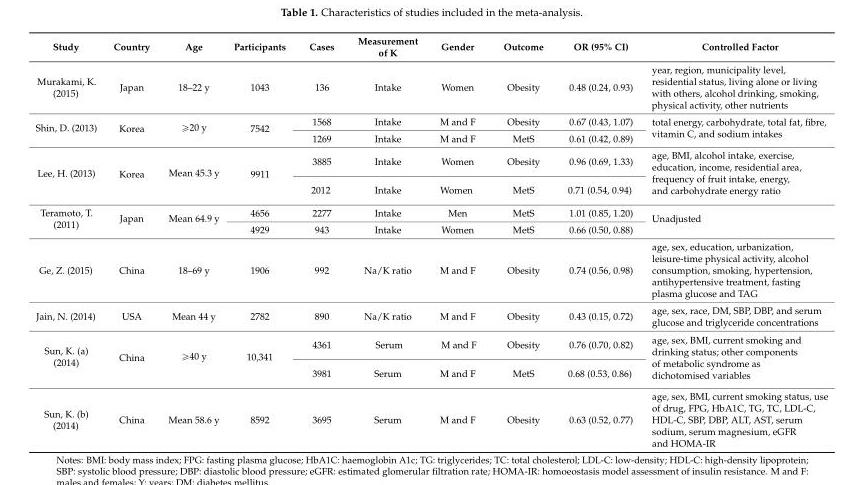table: (34, 34, 827, 448)
table column: (641, 34, 827, 448), (554, 34, 641, 448), (345, 34, 428, 448), (225, 34, 296, 448), (34, 34, 104, 448), (158, 34, 225, 448), (489, 34, 554, 448), (428, 34, 489, 448), (104, 34, 158, 448), (296, 34, 345, 448)
table column header: (34, 34, 827, 60)
table row: (34, 237, 827, 301), (34, 385, 827, 448), (34, 60, 827, 112), (34, 146, 827, 175), (34, 301, 827, 330), (34, 330, 827, 358), (34, 358, 827, 385), (34, 34, 827, 60), (34, 175, 827, 201), (34, 201, 827, 220), (34, 112, 827, 129), (34, 129, 827, 146), (34, 220, 827, 237)
table spanning cell: (641, 146, 827, 201), (641, 330, 827, 385), (641, 201, 827, 237), (641, 112, 827, 146), (225, 146, 296, 201), (225, 330, 296, 385), (34, 146, 104, 201), (34, 330, 104, 385), (158, 146, 225, 201), (158, 330, 225, 385), (104, 146, 158, 201), (104, 330, 158, 385), (34, 201, 104, 237), (225, 112, 296, 146), (158, 201, 225, 237), (34, 112, 104, 146), (158, 112, 225, 146), (104, 201, 158, 237), (104, 112, 158, 146)
